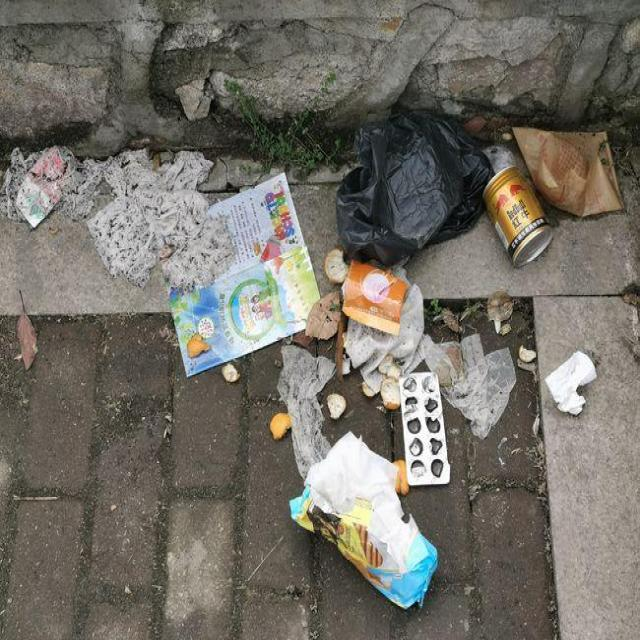garbage: (272, 268, 523, 612), (324, 86, 624, 280), (146, 172, 320, 388), (538, 342, 606, 419)
